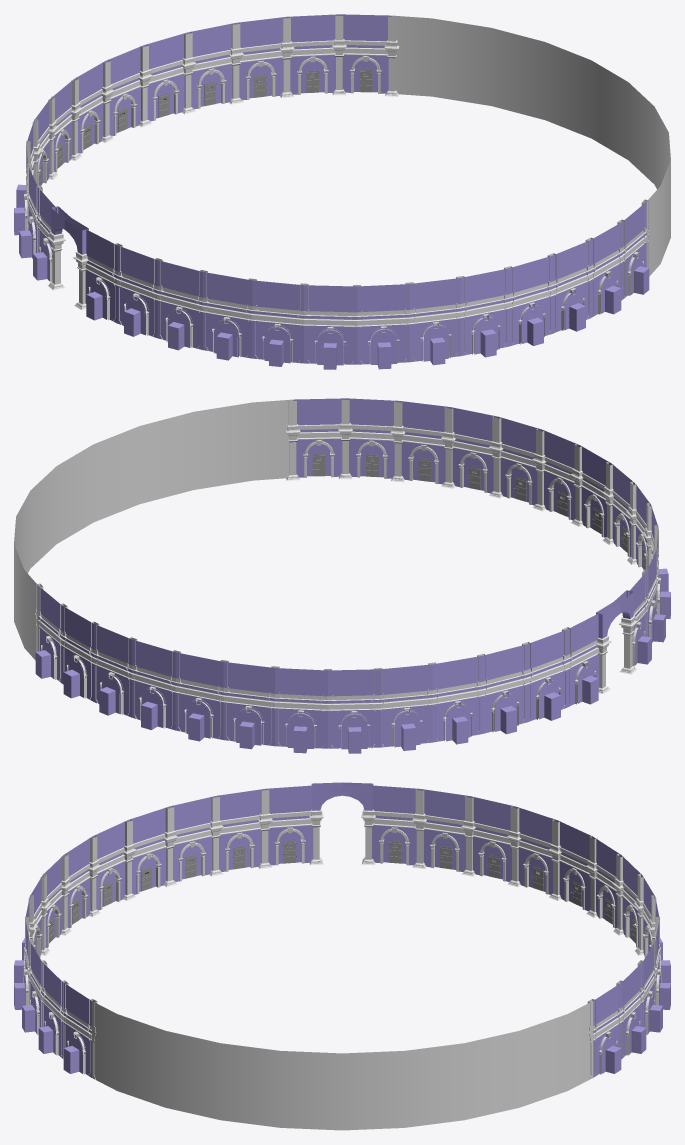
The model's file is FR L1 Prison walls.fbx.
The picture shows the model from 3 angles, top to bottom: view 1: azimuth 30°, elevation 25°; view 2: azimuth 150°, elevation 25°; view 3: azimuth 270°, elevation 25°; orthographic projection.
Parts seen in each view (by area): view 1: prison wall back, Prison wall_LOD0.019, Prison wall_LOD0.020, Prison wall_LOD0.018, Prison wall_LOD0.021, Prison wall_LOD0.017, Prison wall_LOD0.022, Prison wall_LOD0.016, Prison wall_LOD0.023, Prison wall_LOD0.001, Prison wall_LOD0.002, Prison wall_LOD0.003 (+22 smaller); view 2: prison wall back, Prison wall_LOD0.008, Prison wall_LOD0.007, Prison wall_LOD0.006, Prison wall_LOD0.009, Prison wall_LOD0.010, Prison wall_LOD0.005, Prison wall_LOD0.011, Prison wall_LOD0.004, Prison wall_LOD0.026, Prison wall_LOD0.025, Prison wall_LOD0.024 (+23 smaller); view 3: prison wall back, Prison wall_LOD0.014, Prison wall_LOD0.013, Prison wall_LOD0.015, Prison wall_LOD0.012, Prison wall_LOD0.016, Prison wall_LOD0.011, Prison wall_LOD0.017, Prison wall_LOD0.010, Prison wall_LOD0.026, Prison wall_LOD0.001, Prison wall_LOD0.009 (+27 smaller).
Boxes of the visible parts, left/top/right/bottom form: prison wall back: left=391, top=15, right=670, bottom=276; Prison wall_LOD0.019: left=304, top=285, right=357, bottom=369; Prison wall_LOD0.020: left=357, top=284, right=410, bottom=369; Prison wall_LOD0.018: left=252, top=280, right=304, bottom=366; Prison wall_LOD0.021: left=410, top=278, right=461, bottom=365; Prison wall_LOD0.017: left=202, top=272, right=252, bottom=360; Prison wall_LOD0.022: left=461, top=268, right=509, bottom=357; Prison wall_LOD0.016: left=157, top=260, right=203, bottom=350; Prison wall_LOD0.023: left=509, top=255, right=553, bottom=346; Prison wall_LOD0.001: left=339, top=14, right=391, bottom=93; Prison wall_LOD0.002: left=286, top=14, right=339, bottom=94; Prison wall_LOD0.003: left=235, top=17, right=286, bottom=100; prison wall back: left=14, top=399, right=292, bottom=660; Prison wall_LOD0.008: left=327, top=669, right=380, bottom=753; Prison wall_LOD0.007: left=275, top=668, right=327, bottom=753; Prison wall_LOD0.006: left=223, top=662, right=275, bottom=749; Prison wall_LOD0.009: left=380, top=664, right=432, bottom=750; Prison wall_LOD0.010: left=432, top=656, right=482, bottom=744; Prison wall_LOD0.005: left=175, top=652, right=224, bottom=741; Prison wall_LOD0.011: left=481, top=644, right=527, bottom=734; Prison wall_LOD0.004: left=131, top=639, right=175, bottom=730; Prison wall_LOD0.026: left=293, top=398, right=345, bottom=477; Prison wall_LOD0.025: left=345, top=398, right=398, bottom=478; Prison wall_LOD0.024: left=398, top=400, right=449, bottom=484; prison wall back: left=92, top=1001, right=593, bottom=1130; Prison wall_LOD0.014: left=264, top=785, right=315, bottom=865; Prison wall_LOD0.013: left=369, top=785, right=420, bottom=865; Prison wall_LOD0.015: left=215, top=789, right=264, bottom=871; Prison wall_LOD0.012: left=420, top=789, right=469, bottom=871; Prison wall_LOD0.016: left=169, top=796, right=214, bottom=881; Prison wall_LOD0.011: left=470, top=796, right=515, bottom=881; Prison wall_LOD0.017: left=127, top=806, right=168, bottom=894; Prison wall_LOD0.010: left=516, top=806, right=557, bottom=894; Prison wall_LOD0.026: left=63, top=983, right=91, bottom=1077; Prison wall_LOD0.001: left=593, top=983, right=621, bottom=1077; Prison wall_LOD0.009: left=557, top=820, right=592, bottom=911.
Size of what is drawn, in the model's own units: 5630 by 743 by 5743.
